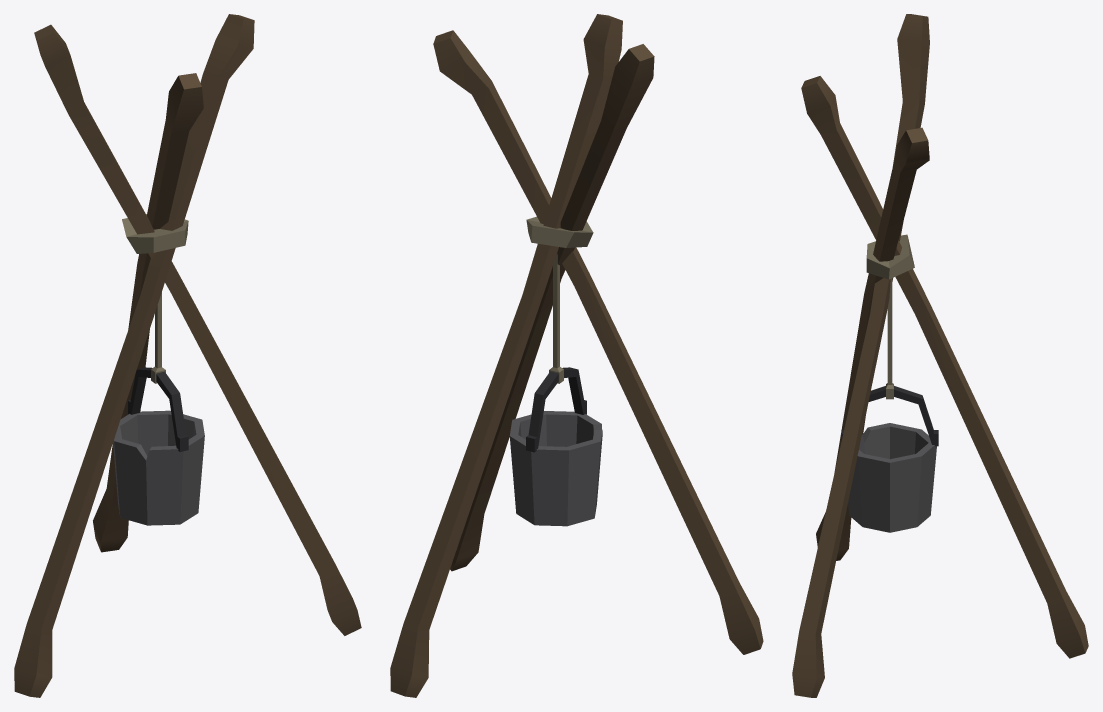
The model's file is SM_Prop_Campfire_Pot_01.glb.
The picture shows the model from 3 angles, left to right: view 1: azimuth 30°, elevation 25°; view 2: azimuth 150°, elevation 25°; view 3: azimuth 270°, elevation 25°; orthographic projection. The views are drawn at different scales.
Visible parts, largest first — view 1: SM_Prop_Campfire_Pot_01; view 2: SM_Prop_Campfire_Pot_01; view 3: SM_Prop_Campfire_Pot_01.
Boxes of the visible parts, x1,y1,x2,y2 form: SM_Prop_Campfire_Pot_01: (14,14,361,697); SM_Prop_Campfire_Pot_01: (390,14,763,697); SM_Prop_Campfire_Pot_01: (792,14,1088,697).
Size of the model in its own units: 0.0121 by 0.0216 by 0.0101.
